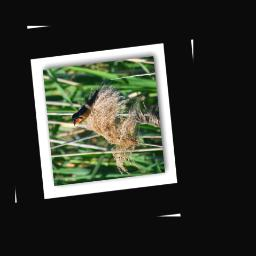Swallow: (67, 84, 106, 128)
